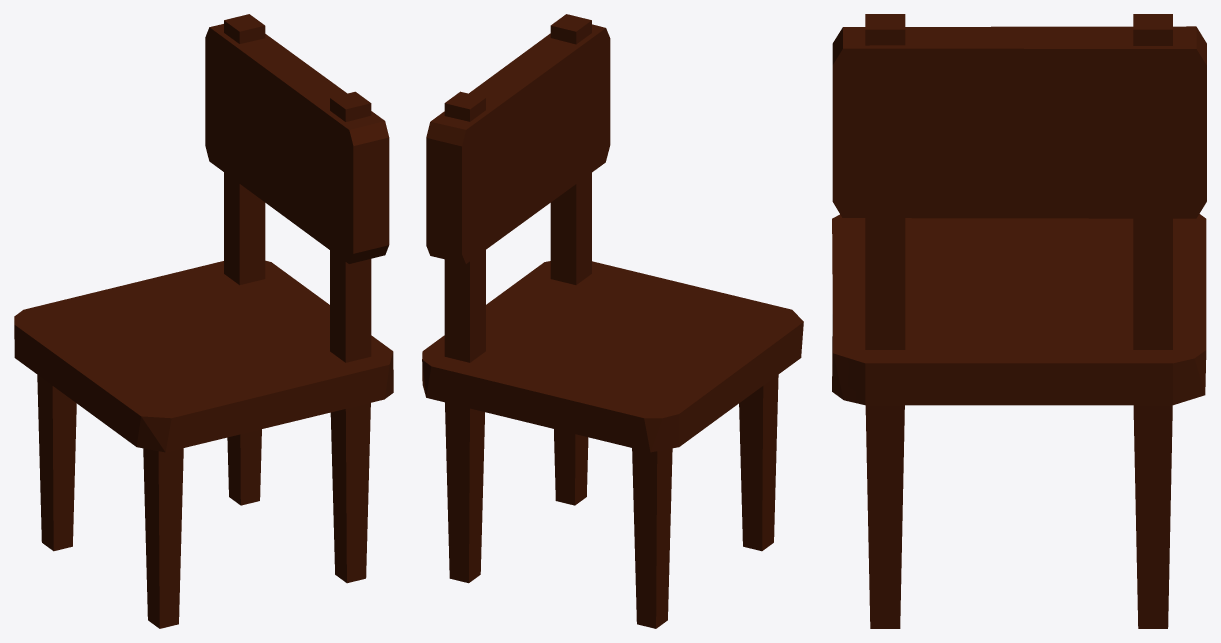
The model's file is chair.fbx.
3 views of the same model, side by side, from view 1: azimuth 30°, elevation 25°; view 2: azimuth 150°, elevation 25°; view 3: azimuth 270°, elevation 25° (orthographic). The views are drawn at different scales.
Parts seen in each view (by area): view 1: Cube; view 2: Cube; view 3: Cube.
Part boxes in pixels (box(x1,y1,x2,y2)): Cube: box(14, 14, 393, 628); Cube: box(422, 14, 803, 628); Cube: box(832, 14, 1206, 628).
Size of the model in its own units: 200 by 354 by 200.
